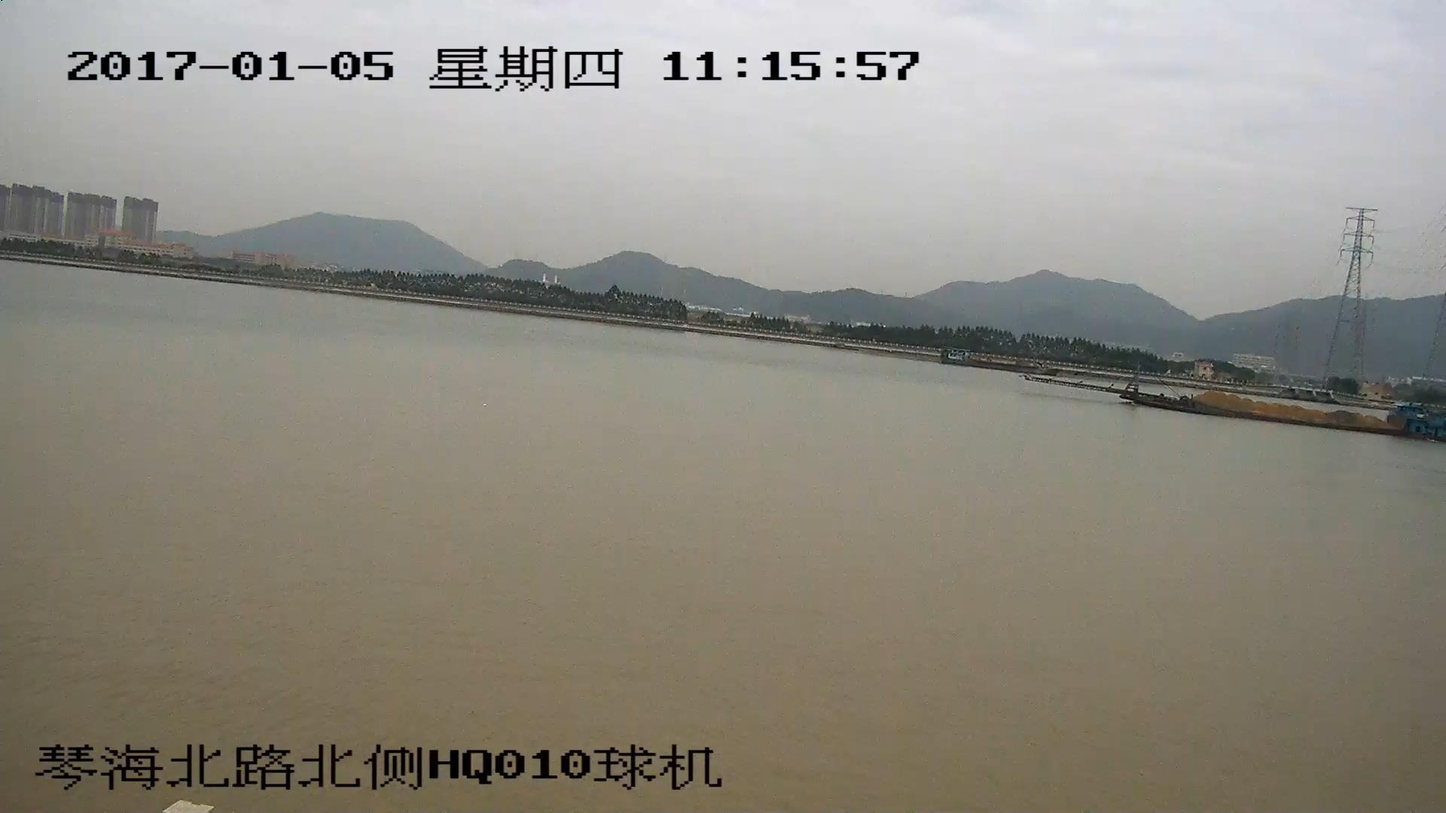ore carrier: (1031, 368, 1445, 435)
